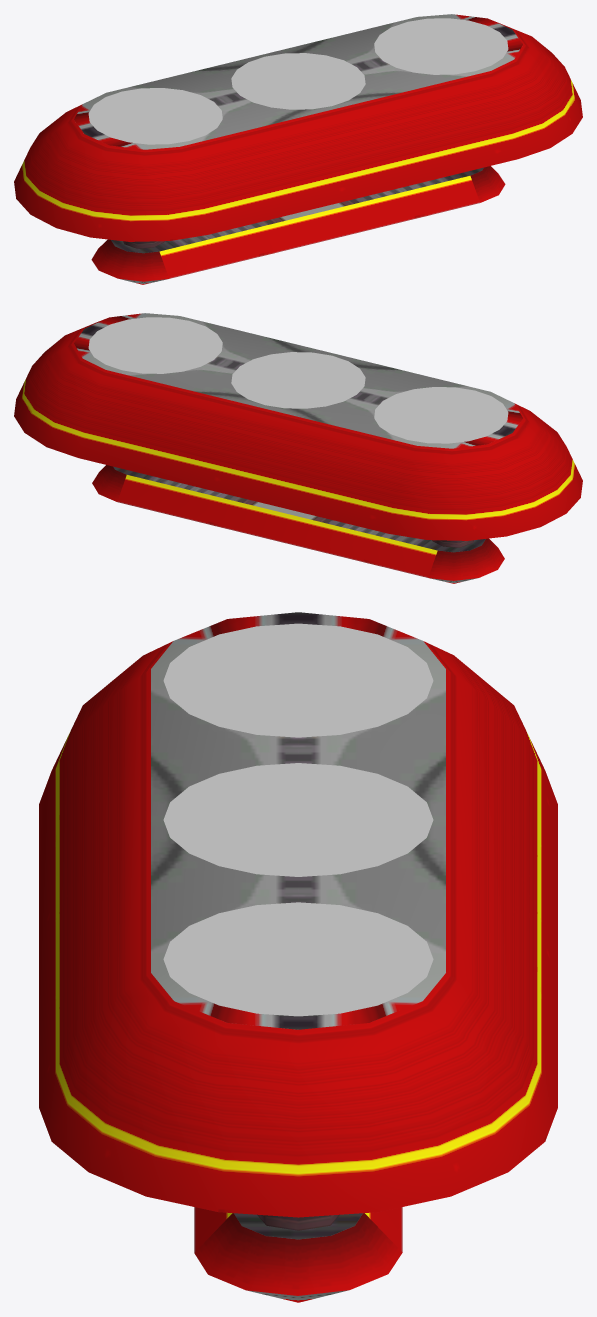
File: WideSpring.fbx
3 renders of one model, top to bottom at view 1: azimuth 30°, elevation 25°; view 2: azimuth 150°, elevation 25°; view 3: azimuth 270°, elevation 25°, orthographic. The views are drawn at different scales.
Visible parts, largest first — view 1: cmn_obj_widespring_HD; view 2: cmn_obj_widespring_HD; view 3: cmn_obj_widespring_HD.
Boxes of the visible parts, x1,y1,x2,y2 form: cmn_obj_widespring_HD: [14, 14, 582, 284]; cmn_obj_widespring_HD: [14, 313, 582, 583]; cmn_obj_widespring_HD: [39, 612, 557, 1302].
Bounding box in the file's own units: 292 × 123 × 86.27.
